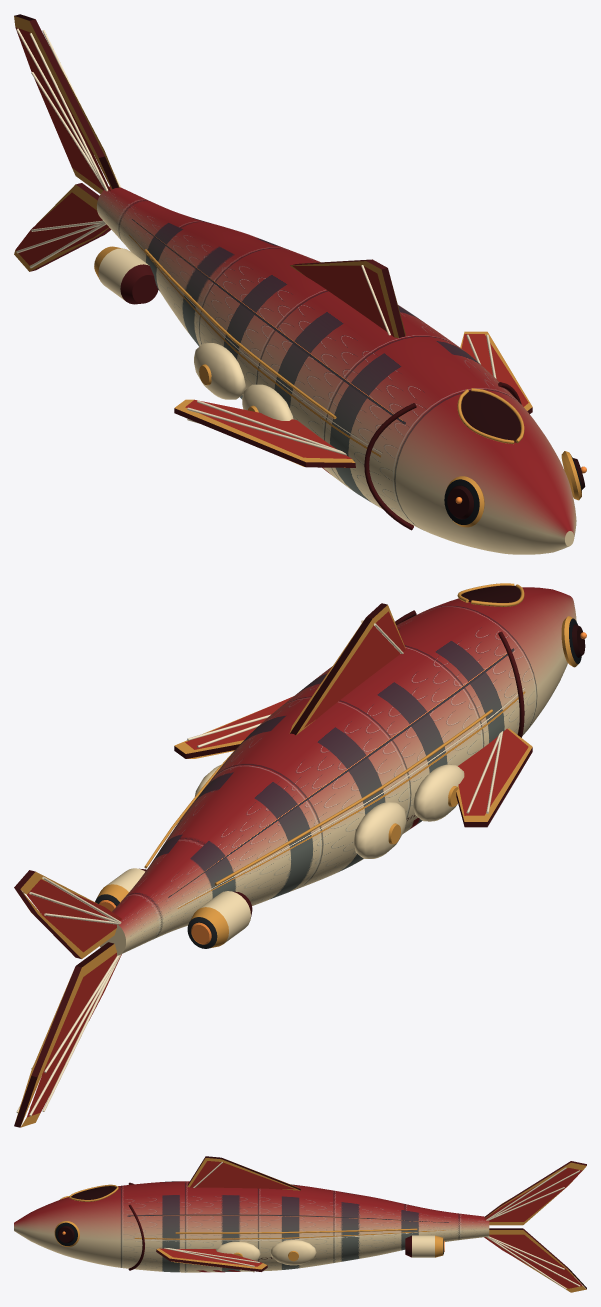
3 renders of one model, top to bottom at view 1: azimuth 30°, elevation 25°; view 2: azimuth 150°, elevation 25°; view 3: azimuth 270°, elevation 25°, orthographic. The views are drawn at different scales.
Parts seen in each view (by area): view 1: pilotfish_hull; view 2: pilotfish_hull; view 3: pilotfish_hull.
Boxes of the visible parts, x1,y1,x2,y2 form: pilotfish_hull: [14, 14, 586, 554]; pilotfish_hull: [14, 583, 586, 1127]; pilotfish_hull: [14, 1156, 586, 1292].
Bounding box in the file's own units: 5.24 × 4.16 × 16.
Materials: 1 (1 with a texture image).
